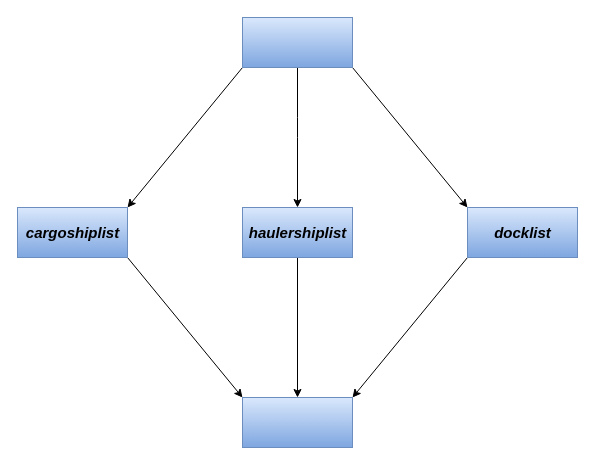
Image size: 595x465. Some labels were removed from this diagram. The centre of each missing label's shape, as x and y in pixels:
"database" goes at pixel 297 422.
"main" goes at pixel 297 42.
